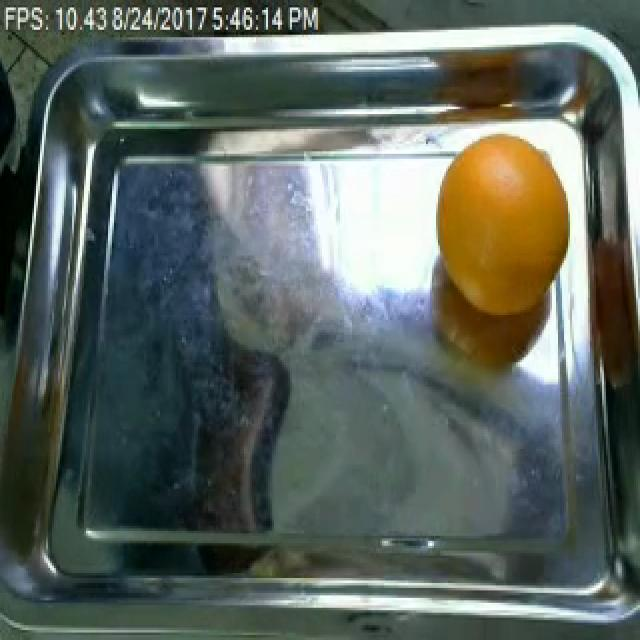Fruit: (428, 124, 574, 340)
